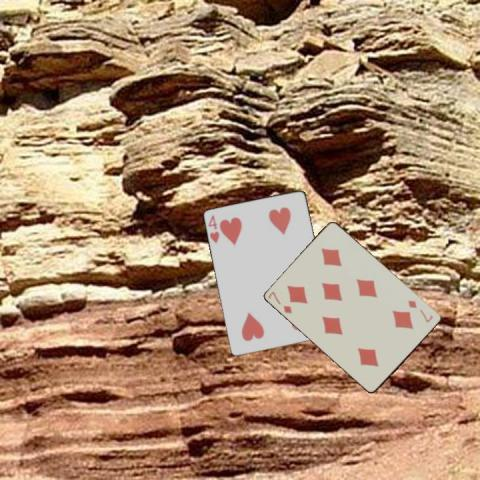4h: (206, 212, 222, 245)
7d: (405, 297, 435, 324), (265, 288, 294, 314)
